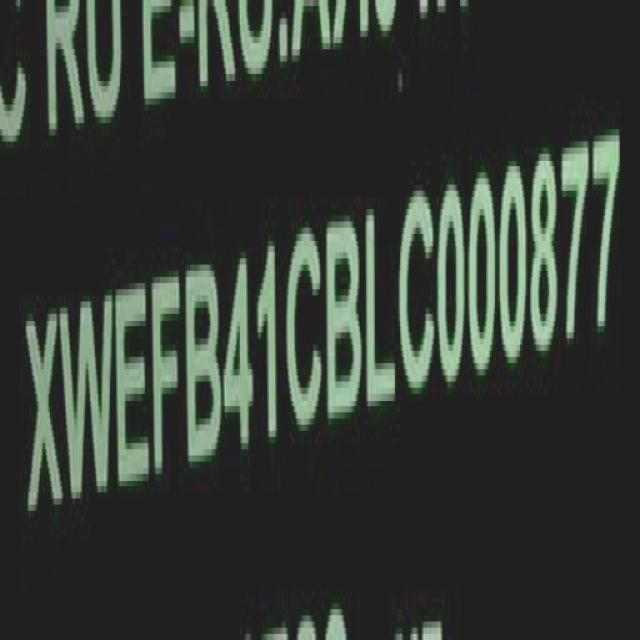0: (499, 158, 530, 370), (468, 167, 498, 380), (438, 176, 467, 390)
1: (258, 242, 283, 452)
4: (222, 248, 255, 464)
7: (595, 118, 623, 341), (562, 128, 590, 348)
8: (530, 158, 560, 364)
B: (327, 210, 366, 428), (186, 256, 223, 470)
C: (286, 223, 326, 439), (399, 184, 438, 401)
E: (115, 276, 151, 502)
F: (150, 266, 182, 478)
L: (365, 202, 399, 416)
W: (62, 282, 116, 509)
X: (27, 307, 62, 528)
